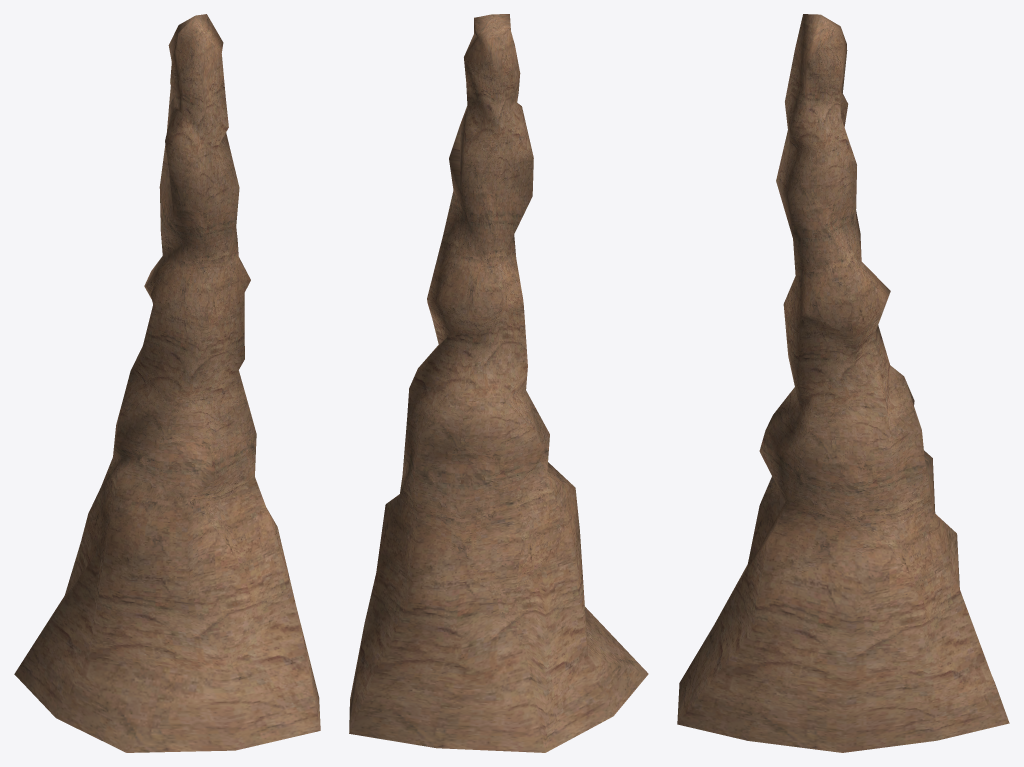
File: rock_tatt_spire_skinny_a1_l1.fbx
3 views of the same model, side by side, from view 1: azimuth 30°, elevation 25°; view 2: azimuth 150°, elevation 25°; view 3: azimuth 270°, elevation 25° (orthographic). The views are drawn at different scales.
Visible parts, largest first — view 1: mesh_node; view 2: mesh_node; view 3: mesh_node.
Boxes of the visible parts, <box> form: mesh_node: <box>14,14,320,752</box>; mesh_node: <box>349,14,648,752</box>; mesh_node: <box>677,14,1009,752</box>.
Size of the model in its own units: 28.31 by 75.15 by 33.14.
Materials: 1 (1 with a texture image).
